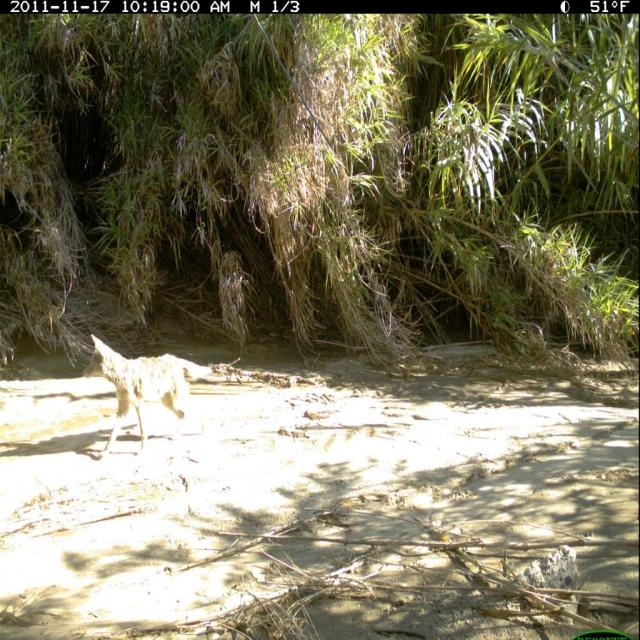coyote: (77, 333, 218, 463)
